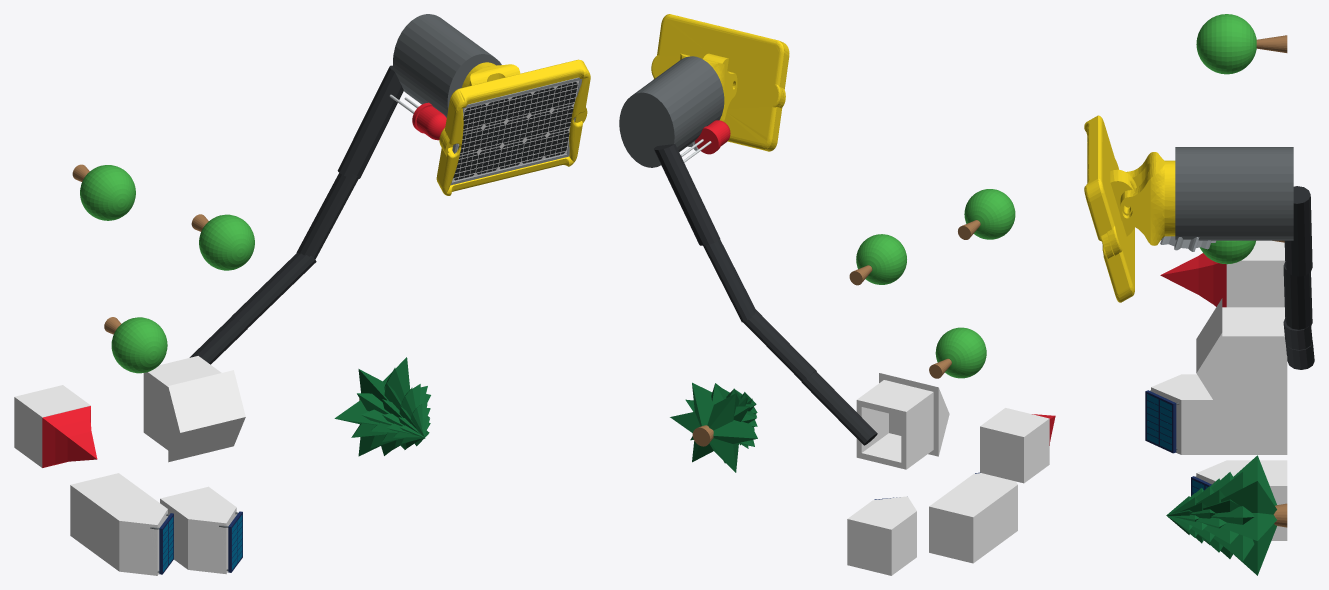
The model's file is tinker.obj.
3 renders of one model, left to right at view 1: azimuth 30°, elevation 25°; view 2: azimuth 150°, elevation 25°; view 3: azimuth 270°, elevation 25°, orthographic. The views are drawn at different scales.
Parts seen in each view (by area): view 1: group_0_16448250, group_0_2829873, group_0_4634441, group_0_16768282, group_0_6383466, group_0_1206582, group_0_15277357, group_0_10988977, group_0_30377, group_0_1650274; view 2: group_0_16448250, group_0_16768282, group_0_6383466, group_0_2829873, group_0_4634441, group_0_1206582, group_0_11107152, group_0_15277357; view 3: group_0_16448250, group_0_6383466, group_0_16768282, group_0_1206582, group_0_2829873, group_0_4634441, group_0_15277357, group_0_30377, group_0_1650274, group_0_11107152, group_0_12568524.
Boxes of the visible parts, x1=… form: group_0_16448250: x1=14, y1=80, x2=579, y2=575; group_0_2829873: x1=189, y1=65, x2=577, y2=364; group_0_4634441: x1=80, y1=165, x2=254, y2=373; group_0_16768282: x1=436, y1=59, x2=590, y2=195; group_0_6383466: x1=150, y1=14, x2=501, y2=572; group_0_1206582: x1=334, y1=357, x2=430, y2=456; group_0_15277357: x1=42, y1=102, x2=446, y2=467; group_0_10988977: x1=450, y1=77, x2=582, y2=185; group_0_30377: x1=163, y1=515, x2=242, y2=571; group_0_1650274: x1=159, y1=511, x2=242, y2=574; group_0_16448250: x1=847, y1=373, x2=1049, y2=575; group_0_16768282: x1=651, y1=14, x2=789, y2=151; group_0_6383466: x1=619, y1=56, x2=724, y2=167; group_0_2829873: x1=654, y1=144, x2=877, y2=445; group_0_4634441: x1=856, y1=189, x2=1015, y2=378; group_0_1206582: x1=670, y1=382, x2=757, y2=472; group_0_11107152: x1=692, y1=220, x2=980, y2=446; group_0_15277357: x1=694, y1=120, x2=1055, y2=445; group_0_16448250: x1=1151, y1=240, x2=1287, y2=540; group_0_6383466: x1=1150, y1=147, x2=1293, y2=477; group_0_16768282: x1=1084, y1=115, x2=1175, y2=302; group_0_1206582: x1=1166, y1=455, x2=1276, y2=575; group_0_2829873: x1=1283, y1=186, x2=1314, y2=369; group_0_4634441: x1=1196, y1=14, x2=1256, y2=264; group_0_15277357: x1=1160, y1=253, x2=1226, y2=307; group_0_30377: x1=1147, y1=394, x2=1207, y2=494; group_0_1650274: x1=1145, y1=390, x2=1211, y2=495; group_0_11107152: x1=1256, y1=35, x2=1287, y2=527; group_0_12568524: x1=1160, y1=236, x2=1215, y2=251.
Bounding box in the file's own units: 201 × 186 × 76.
